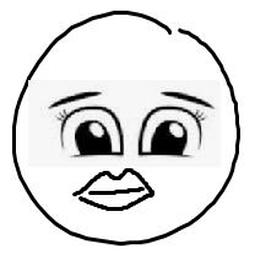cupid_mouth: (70, 165, 159, 214)
eye: (134, 104, 218, 165), (55, 104, 128, 161)
eyebrow: (46, 87, 107, 111), (162, 87, 215, 109)
